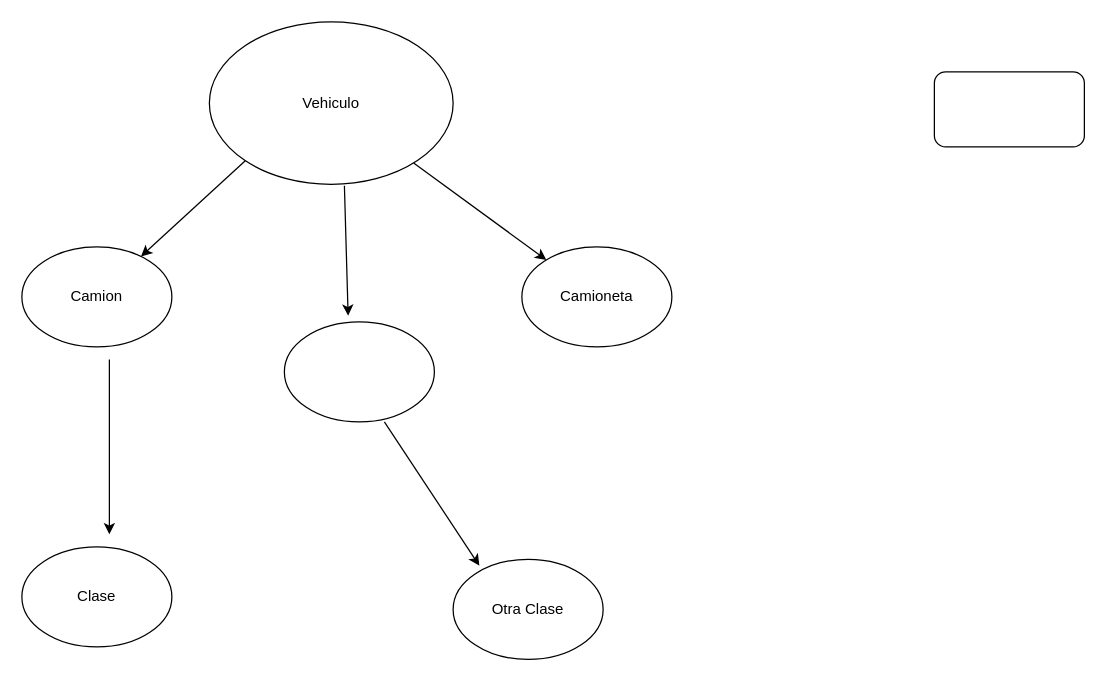
Some shapes in this 1106 by 681 pixel diagram are drawn without their labels. The shapes that lost their labels are listed below. From the top down, each one's centre as x and y in pixels, then its label:
[1008,109]: interfas
[358,371]: Auto
